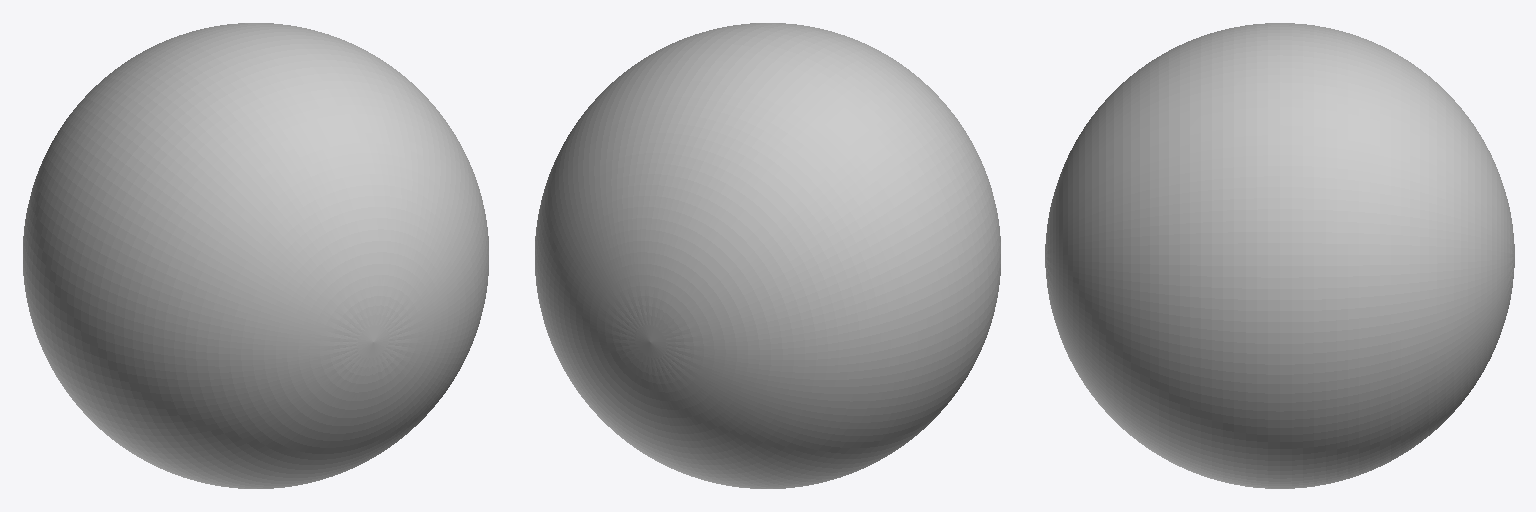
The model's file is Jupiter.obj.
The picture shows the model from 3 angles: view 1: azimuth 30°, elevation 25°; view 2: azimuth 150°, elevation 25°; view 3: azimuth 270°, elevation 25°; orthographic projection.
Visible parts, largest first — view 1: Jupiter 메시; view 2: Jupiter 메시; view 3: Jupiter 메시.
Boxes of the visible parts, <box> form: Jupiter 메시: <box>23,23,488,488</box>; Jupiter 메시: <box>535,23,1000,488</box>; Jupiter 메시: <box>1045,23,1514,488</box>.
Bounding box in the file's own units: 965 × 965 × 975.